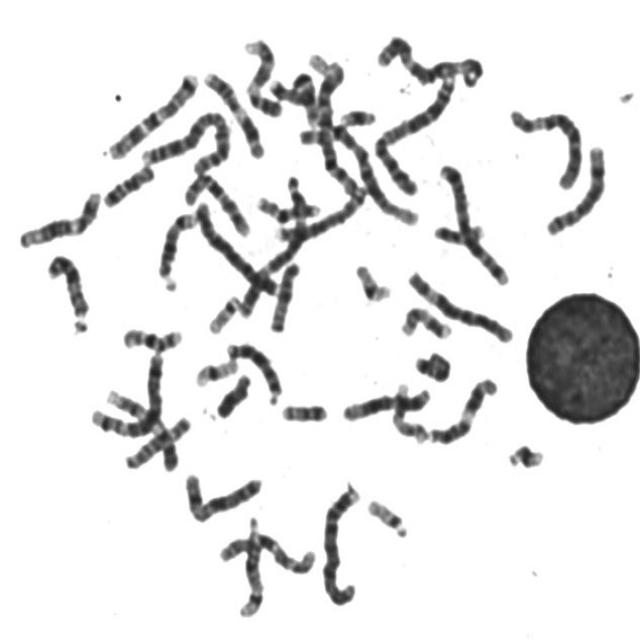A1: (292, 118, 420, 228), (310, 54, 360, 200)
A2: (368, 67, 459, 196), (133, 102, 234, 174)
A3: (233, 169, 312, 320), (369, 26, 486, 89)
B4: (190, 194, 280, 297), (315, 478, 364, 607)
B5: (433, 156, 512, 288), (84, 346, 168, 437)
C10: (178, 164, 253, 239), (211, 526, 318, 577)
C11: (197, 63, 267, 160), (421, 369, 501, 446)
C12: (12, 183, 103, 250), (336, 379, 433, 424)
C6: (401, 261, 516, 345), (502, 98, 586, 192)
C7: (101, 63, 201, 161), (263, 66, 321, 128)
C8: (539, 135, 610, 239), (270, 179, 370, 245)
C9: (100, 381, 182, 472), (236, 28, 285, 118)
D13: (219, 332, 285, 407), (39, 246, 91, 320)
D14: (150, 203, 200, 292), (232, 509, 267, 620)
D15: (117, 408, 193, 470), (263, 254, 304, 334)
E16: (250, 188, 324, 222), (115, 318, 186, 352)
E17: (385, 376, 430, 443), (395, 298, 454, 342)
E18: (97, 156, 156, 210), (408, 344, 452, 383)
F19: (348, 256, 394, 303), (188, 349, 240, 389)
F20: (428, 215, 487, 247), (275, 394, 330, 425)
G21: (500, 434, 548, 471), (333, 99, 379, 129)
G22: (360, 490, 411, 539), (201, 286, 243, 336)
X: (178, 463, 266, 525)
Y: (210, 366, 253, 419)
